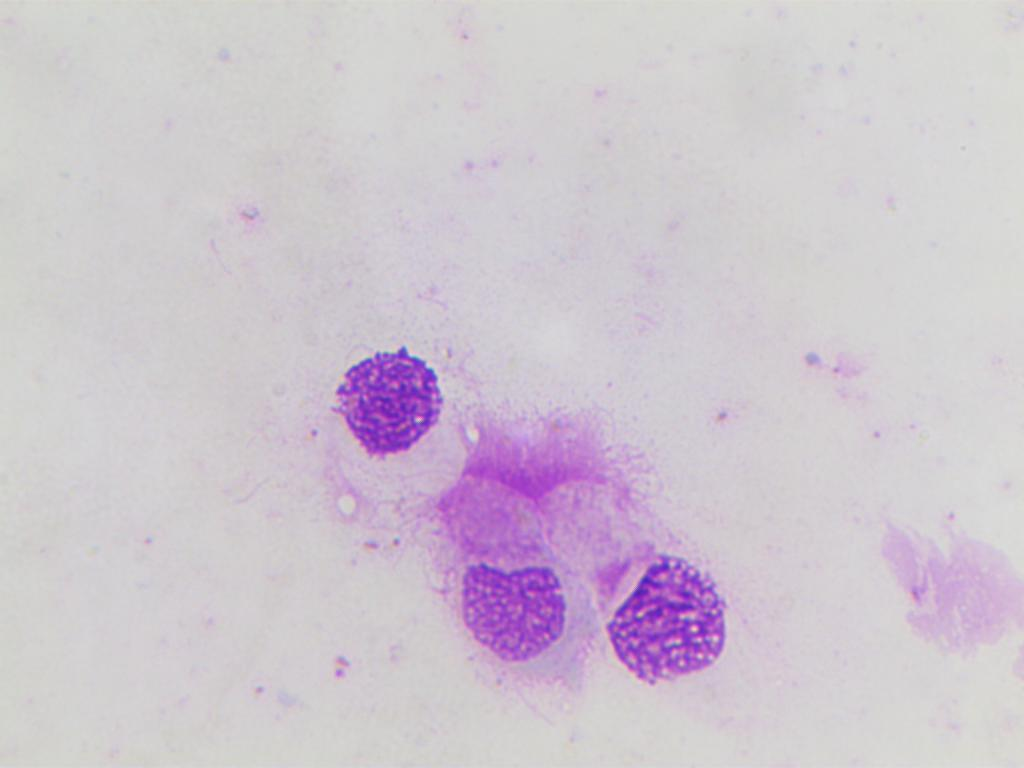ciliated: (538, 410, 729, 683), (451, 421, 554, 664)
mast_cell: (335, 345, 446, 455)
